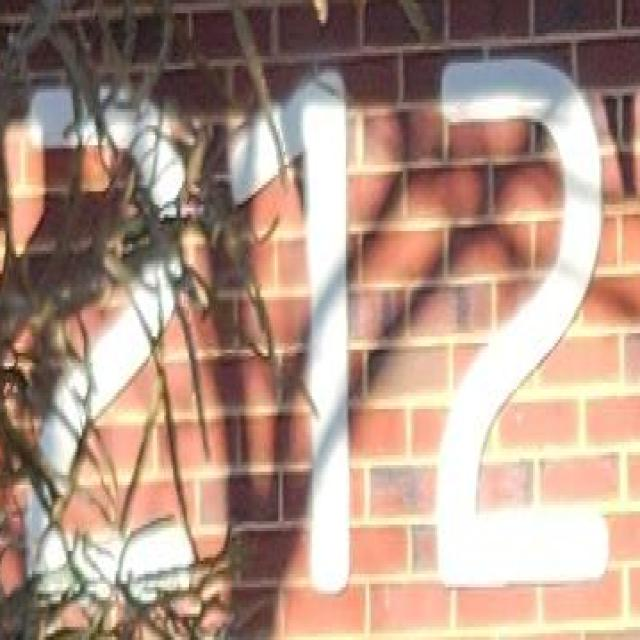character: (13, 74, 204, 608), (432, 44, 616, 597), (221, 59, 359, 604)
